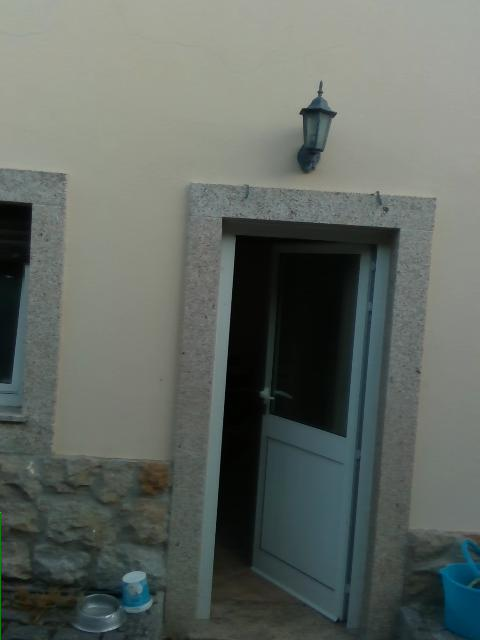semi_door: (196, 214, 402, 639)
